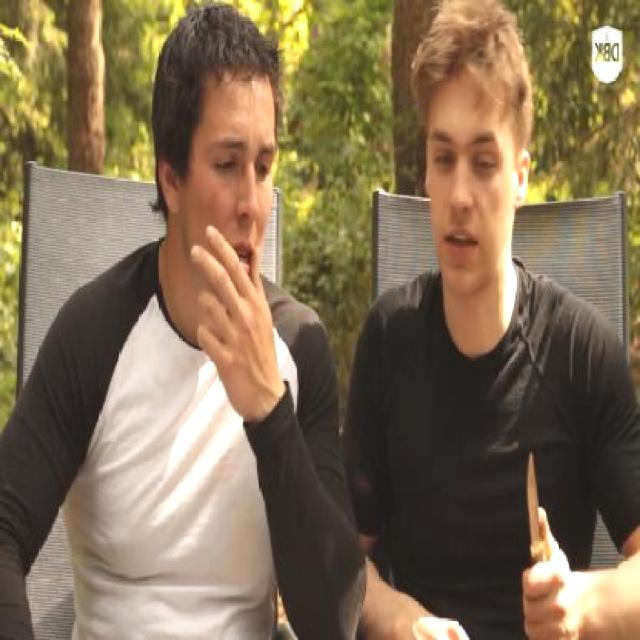knife: (506, 427, 577, 640)
